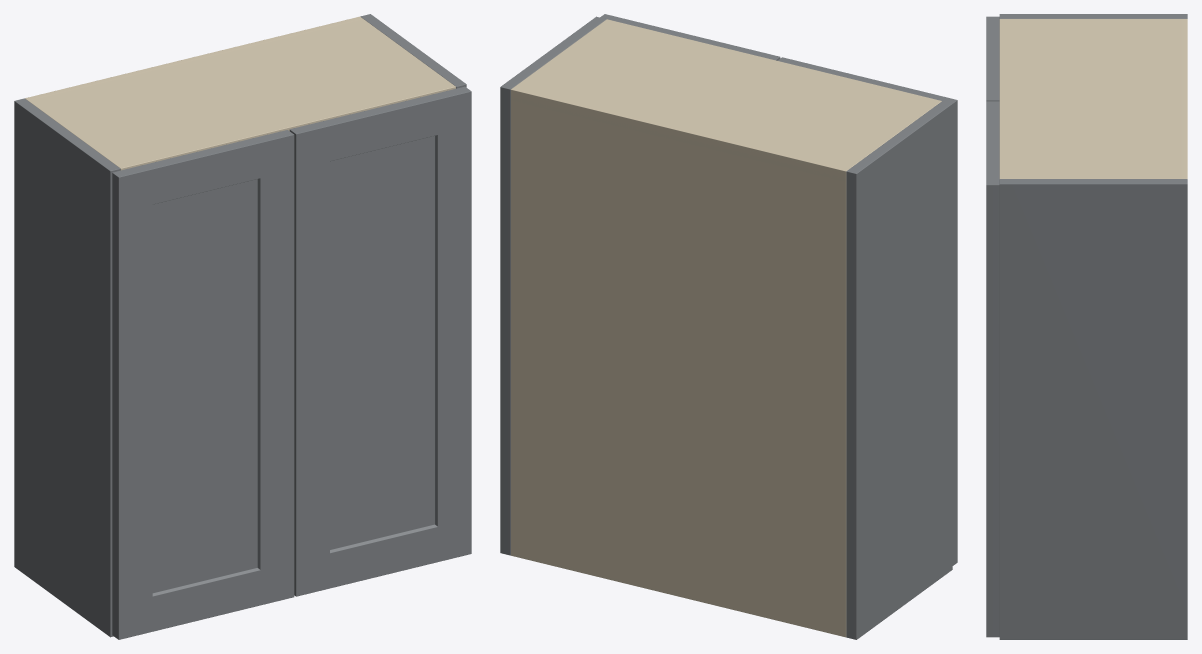
File: oppein-ply-gss-w2430.glb
3 renders of one model, left to right at view 1: azimuth 30°, elevation 25°; view 2: azimuth 150°, elevation 25°; view 3: azimuth 270°, elevation 25°, orthographic. The views are drawn at different scales.
Parts seen in each view (by area): view 1: Door, Door.001, Cabinet side, Cabinet top, Cabinet back, Cabinet side.001; view 2: Cabinet back, Cabinet side, Cabinet top, Cabinet side.001, Door, Door.001; view 3: Cabinet side.001, Cabinet top, Door.001, Cabinet back, Door, Cabinet side.
Boxes of the visible parts, <box> form: Door: <box>112,130,294,639</box>; Door.001: <box>289,86,471,596</box>; Cabinet side: <box>14,98,120,637</box>; Cabinet top: <box>25,19,455,170</box>; Cabinet back: <box>25,16,363,100</box>; Cabinet side.001: <box>360,14,466,88</box>; Cabinet back: <box>511,87,848,636</box>; Cabinet side: <box>846,101,952,639</box>; Cabinet top: <box>511,19,941,181</box>; Cabinet side.001: <box>500,16,606,555</box>; Door: <box>777,57,957,565</box>; Door.001: <box>600,14,780,60</box>; Cabinet side.001: <box>999,179,1187,639</box>; Cabinet top: <box>999,19,1187,178</box>; Door.001: <box>986,101,999,637</box>; Cabinet back: <box>1180,19,1187,178</box>; Door: <box>986,16,999,101</box>; Cabinet side: <box>999,14,1187,18</box>.
Size of the model in its own units: 0.6096 by 0.762 by 0.3048.
